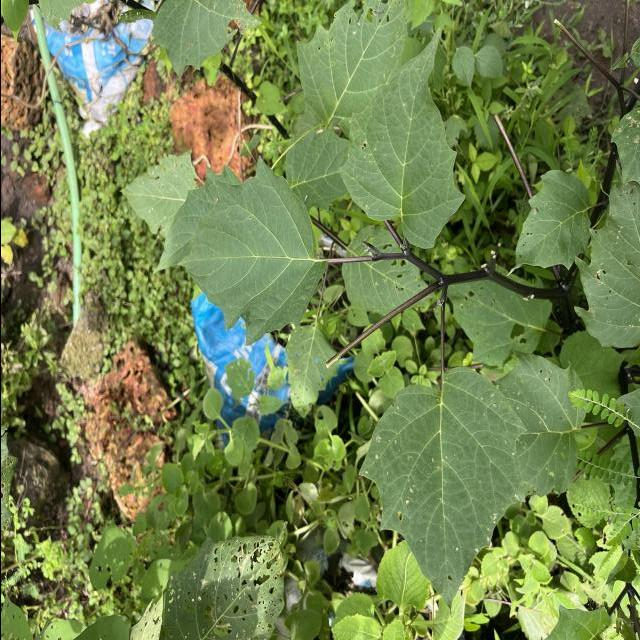Datura metal linn: (354, 363, 528, 620), (171, 151, 329, 350), (335, 25, 468, 254), (502, 166, 594, 279)
